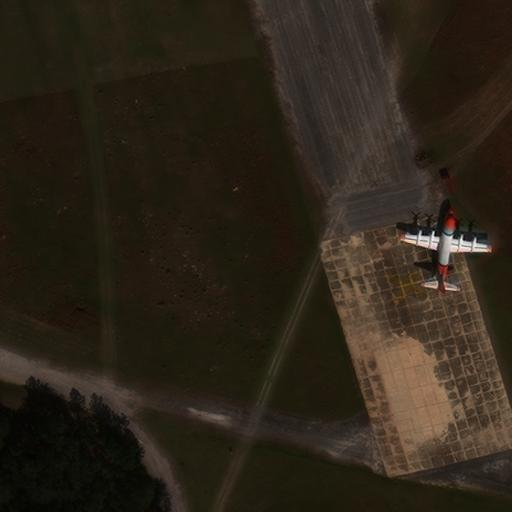Military Transport: (400, 207, 491, 292)
